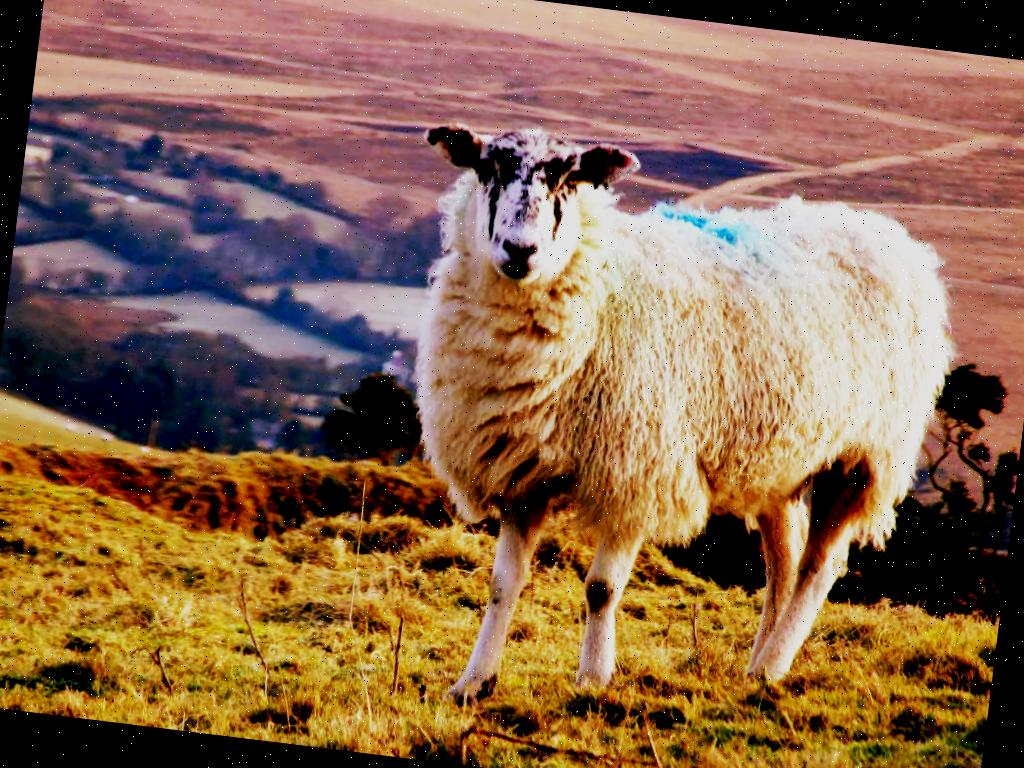Sheep: (354, 112, 982, 762)
